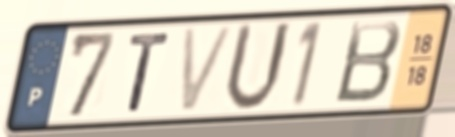1: (291, 19, 324, 111)
7: (68, 31, 121, 121)
B: (331, 17, 405, 107)
T: (126, 29, 174, 114)
U: (220, 19, 295, 116)
V: (177, 22, 240, 117)
